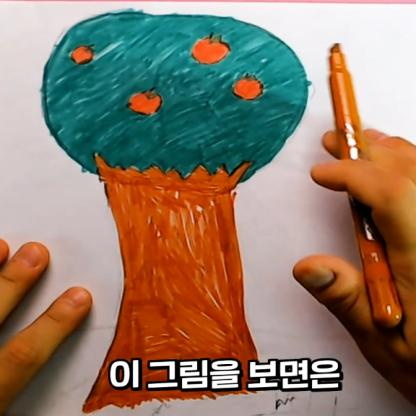apple: (192, 32, 229, 64), (128, 86, 161, 118), (233, 74, 262, 100), (71, 43, 94, 64)
branch_sharp: (94, 150, 252, 192)
crown_mushroom: (38, 13, 309, 182)
trunk_straight: (101, 196, 255, 343)
